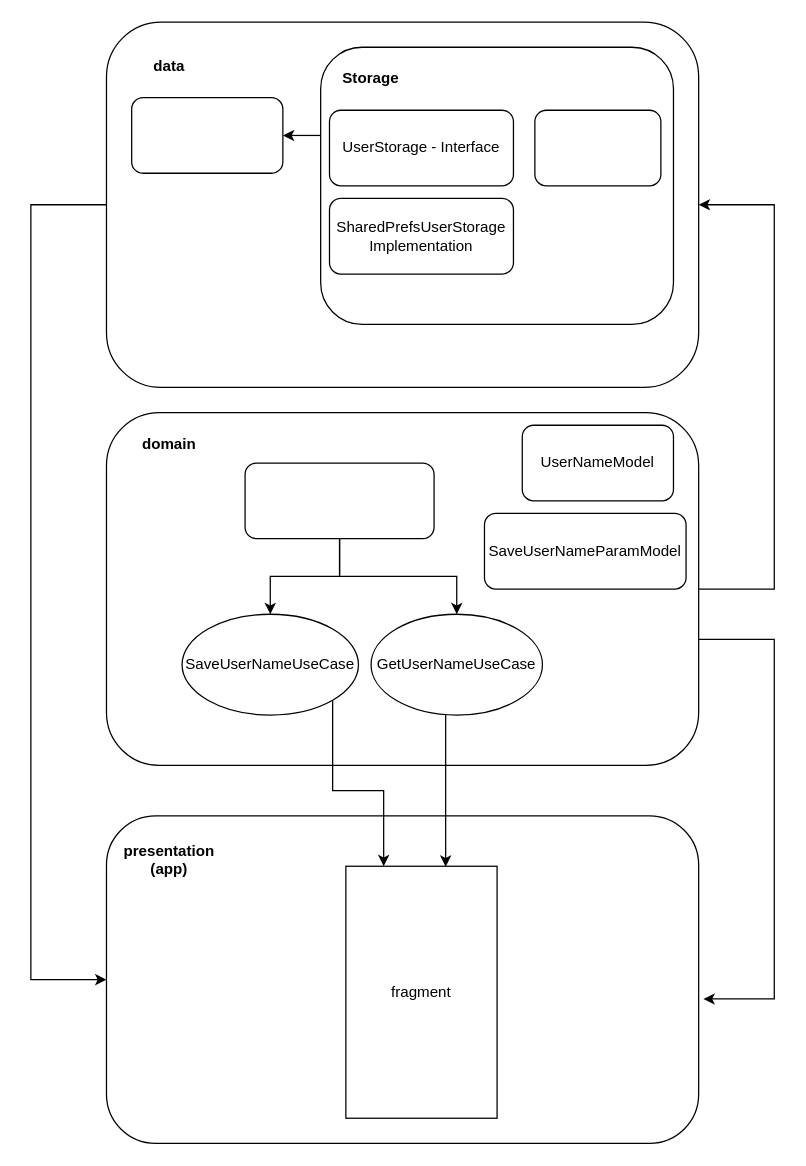
Some shapes in this 806 by 1166 pixel diagram are drawn without their labels. Each missing label, with the centre of its shape:
"UserModel" goes at [597,147].
"UserRepositoryImpl Implementation" goes at [206,134].
"UserRepositotyInterface" goes at [339,500].
